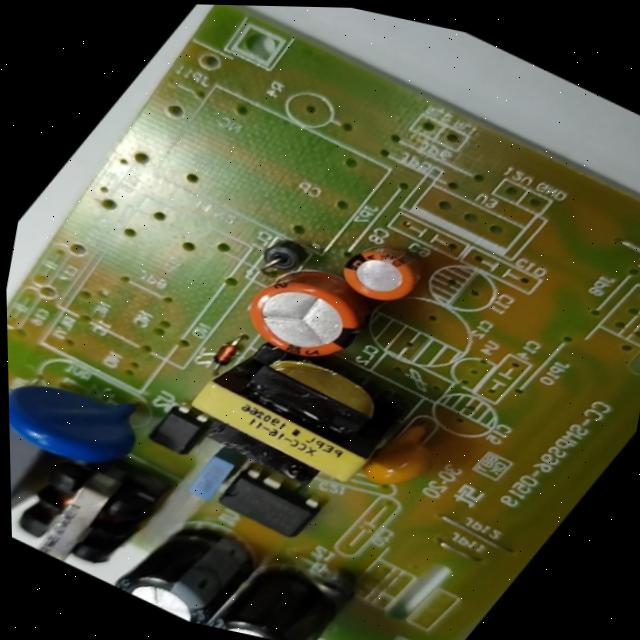Cap1: (219, 248, 396, 387)
Cap2: (314, 221, 448, 324)
Cap3: (195, 521, 383, 640)
Cap4: (107, 497, 289, 640)
MOSFET: (187, 443, 341, 555)
Mov: (7, 329, 204, 507)
Resistor: (9, 395, 30, 474)
Transformer: (167, 298, 453, 514), (9, 409, 199, 591)
